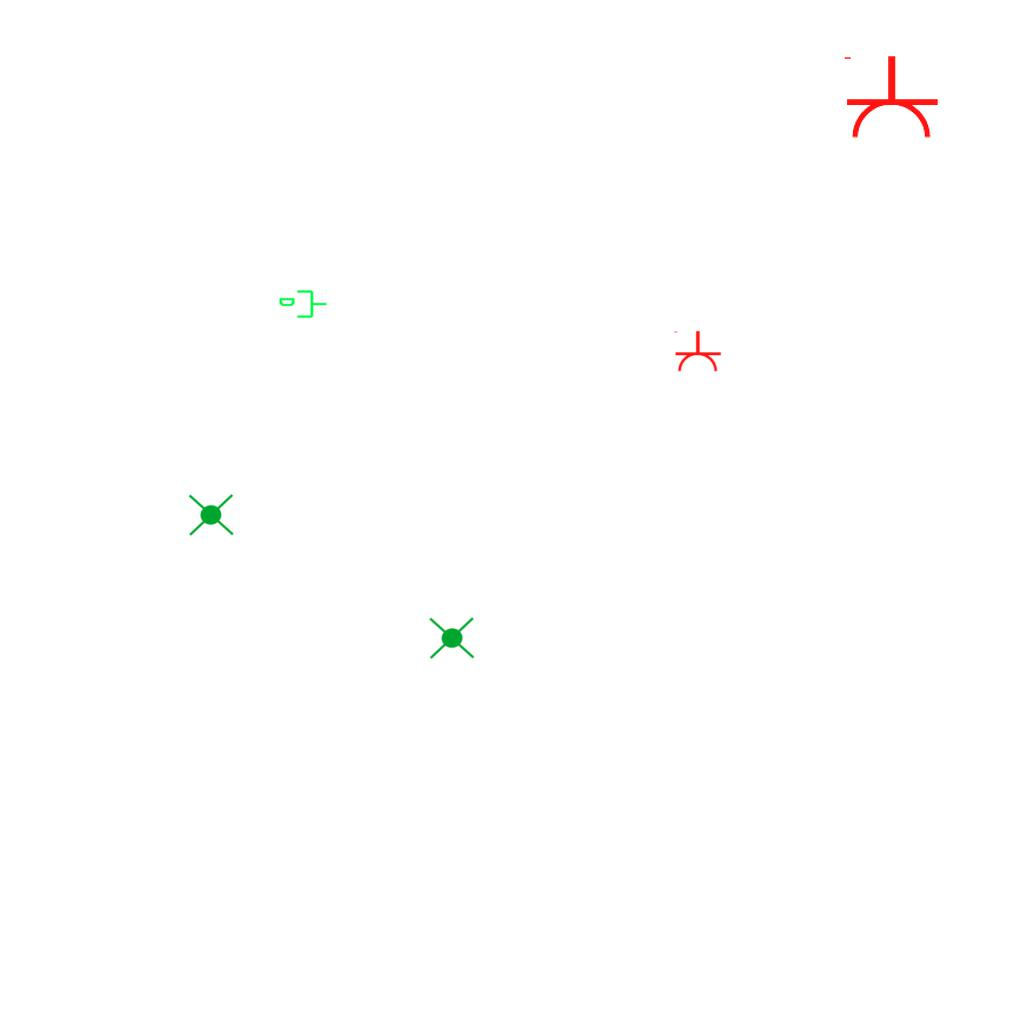Datenanschluss_einfach: (278, 288, 328, 322)
Notlichtbaustein_in_Allgemeinbeleuchtug_engebaut_Einbau_(1UG_und_2UG_Aufbauvaria: (427, 612, 477, 663), (186, 490, 236, 541)
Schukosteckdose_einfach: (840, 54, 940, 141), (672, 330, 722, 373)
